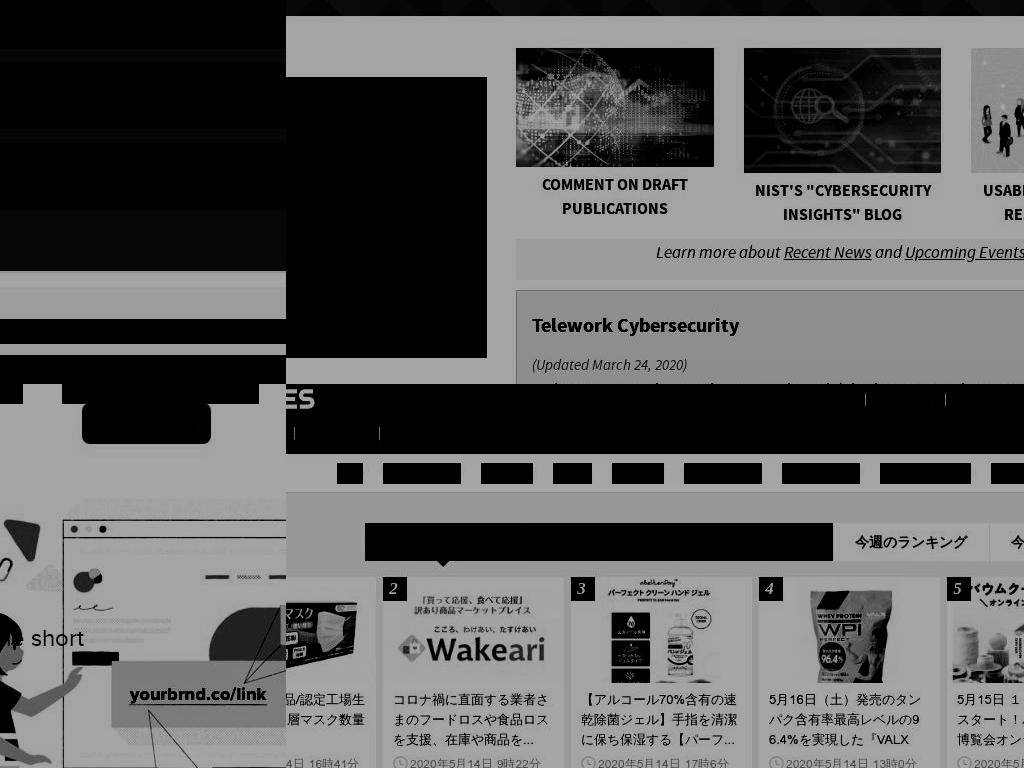button: (383, 577, 564, 768), (571, 577, 752, 768), (759, 577, 940, 768), (286, 577, 376, 768), (947, 577, 1024, 768), (286, 77, 487, 118), (286, 117, 487, 158), (286, 157, 487, 198), (286, 197, 487, 238), (286, 237, 487, 278), (286, 277, 487, 318), (286, 317, 487, 358), (0, 319, 286, 344), (0, 355, 286, 380), (155, 384, 259, 404), (62, 384, 156, 404), (99, 415, 195, 432)
field: (0, 63, 286, 128), (0, 143, 286, 208), (0, 0, 286, 48)
heading: (754, 180, 931, 226), (542, 173, 689, 219), (532, 311, 740, 340), (327, 392, 642, 406), (982, 180, 1024, 226)
image: (743, 47, 942, 173), (516, 47, 714, 167), (383, 577, 564, 698), (571, 577, 752, 698), (759, 577, 940, 698), (286, 577, 376, 698), (947, 577, 1024, 698), (971, 47, 1024, 173), (365, 523, 521, 561), (286, 387, 315, 411)
link: (393, 690, 554, 755), (581, 690, 742, 755), (769, 690, 930, 755), (286, 690, 366, 755), (957, 690, 1024, 755), (904, 242, 1024, 264), (728, 389, 858, 407), (783, 242, 872, 264), (880, 463, 971, 484), (393, 757, 554, 768), (581, 757, 742, 768), (769, 757, 930, 768), (383, 463, 461, 484), (684, 463, 762, 484), (782, 463, 860, 484), (873, 389, 938, 407), (953, 388, 1005, 409), (481, 463, 533, 484), (612, 463, 664, 484), (304, 427, 369, 441), (286, 757, 366, 768), (553, 463, 592, 484), (957, 757, 1024, 768), (991, 463, 1024, 484), (337, 463, 363, 484), (389, 424, 406, 445)
text: (365, 523, 521, 561), (521, 523, 677, 561), (677, 523, 833, 561), (833, 523, 989, 561), (532, 356, 688, 375), (655, 242, 784, 264), (393, 756, 554, 768), (581, 756, 742, 768), (769, 756, 930, 768), (99, 414, 195, 433), (989, 523, 1024, 561), (456, 117, 487, 158), (456, 157, 487, 198), (456, 317, 487, 358), (286, 756, 366, 768), (957, 756, 1024, 768), (871, 242, 905, 264), (175, 384, 239, 394), (383, 577, 407, 601), (571, 577, 595, 601), (759, 577, 783, 601), (947, 577, 971, 601), (82, 384, 136, 394)
